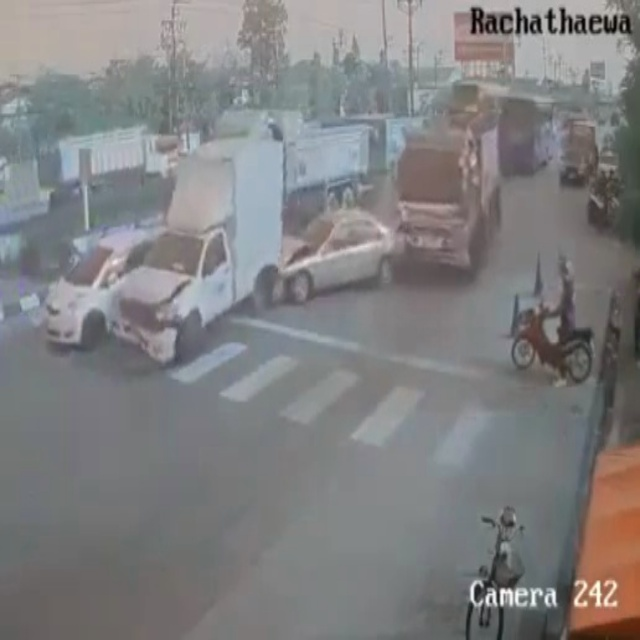acc: (128, 208, 396, 363)
